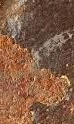Corrosion: (1, 33, 69, 124)
